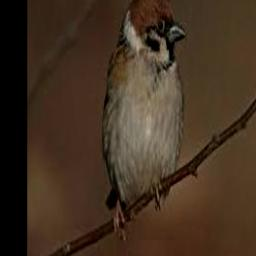Sparrow: (103, 0, 187, 239)
